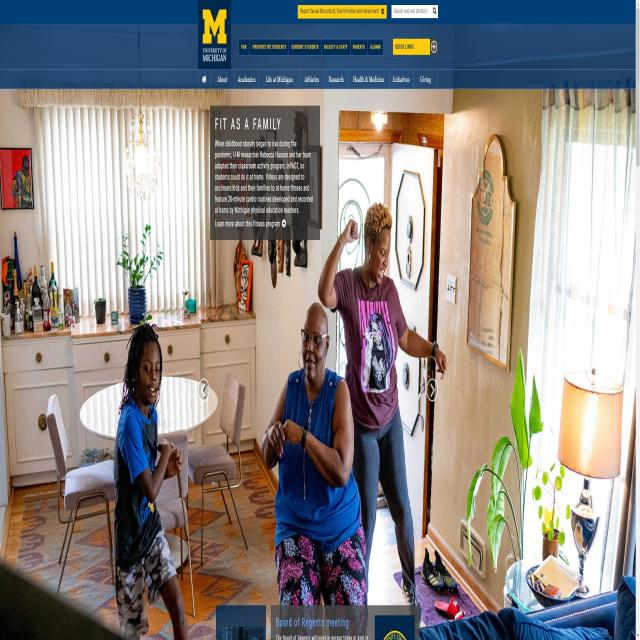menu-bar: (244, 31, 436, 62)
search: (391, 3, 438, 17)
tab-bar: (198, 68, 440, 87)
